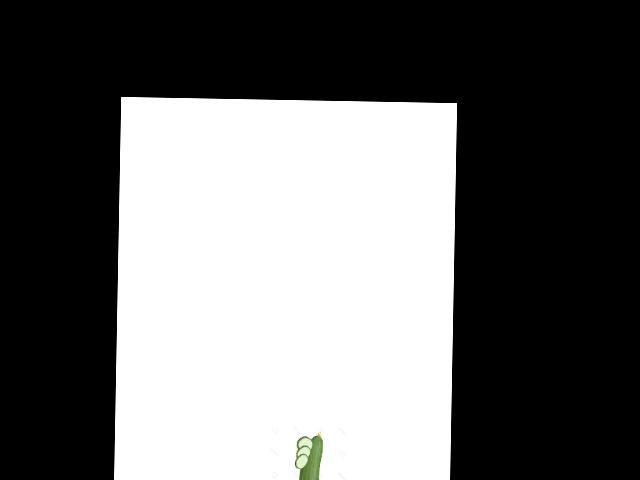cucumber: (298, 431, 322, 480)
